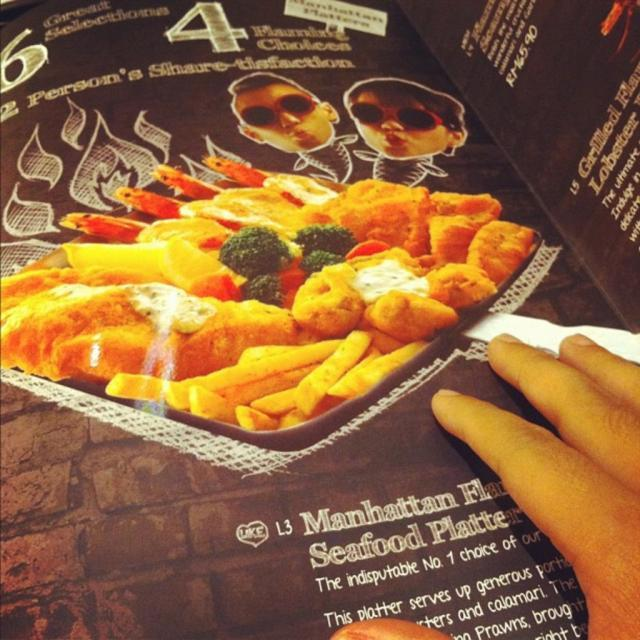French fries: (111, 322, 427, 430)
